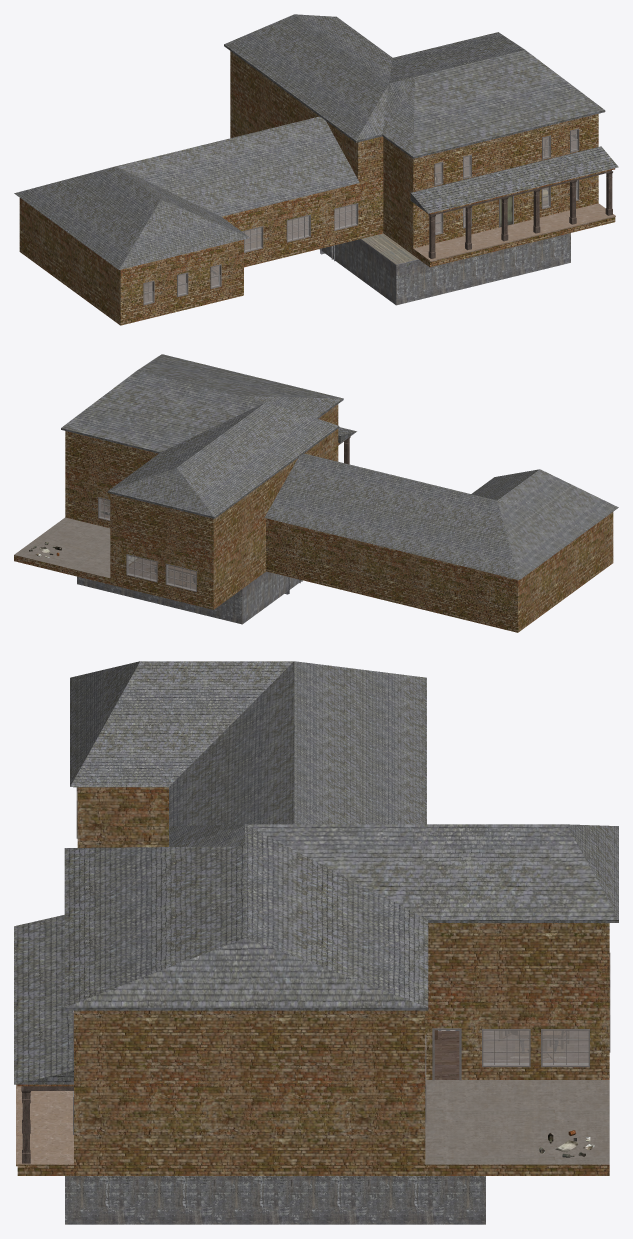
The model's file is spiritHouseMIO.glb.
3 renders of one model, top to bottom at view 1: azimuth 30°, elevation 25°; view 2: azimuth 150°, elevation 25°; view 3: azimuth 270°, elevation 25°, orthographic. The views are drawn at different scales.
Visible parts, largest first — view 1: Casa, Piso.001, Ventana.006, Ventana.007, Ventana.008; view 2: Casa, Casa.005, Ventana, Ventana.001, Piso.001; view 3: Casa, Casa.005, Piso.001, Ventana.002, Ventana.003.
Boxes of the visible parts, x1=… form: Casa: x1=14, y1=14, x2=618, y2=325; Piso.001: x1=144, y1=189, x2=576, y2=302; Ventana.006: x1=334, y1=203, x2=358, y2=230; Ventana.007: x1=286, y1=214, x2=310, y2=242; Ventana.008: x1=242, y1=226, x2=263, y2=252; Casa: x1=14, y1=354, x2=618, y2=632; Casa.005: x1=14, y1=517, x2=110, y2=578; Ventana: x1=126, y1=554, x2=157, y2=582; Ventana.001: x1=165, y1=563, x2=196, y2=592; Piso.001: x1=100, y1=499, x2=196, y2=589; Casa: x1=14, y1=661, x2=618, y2=1224; Casa.005: x1=425, y1=1080, x2=609, y2=1164; Piso.001: x1=434, y1=1030, x2=588, y2=1079; Ventana.002: x1=541, y1=1029, x2=589, y2=1067; Ventana.003: x1=482, y1=1029, x2=530, y2=1067.
Size of the model in its own units: 36.31 by 12.61 by 23.06.
45 materials, 43 textured.
